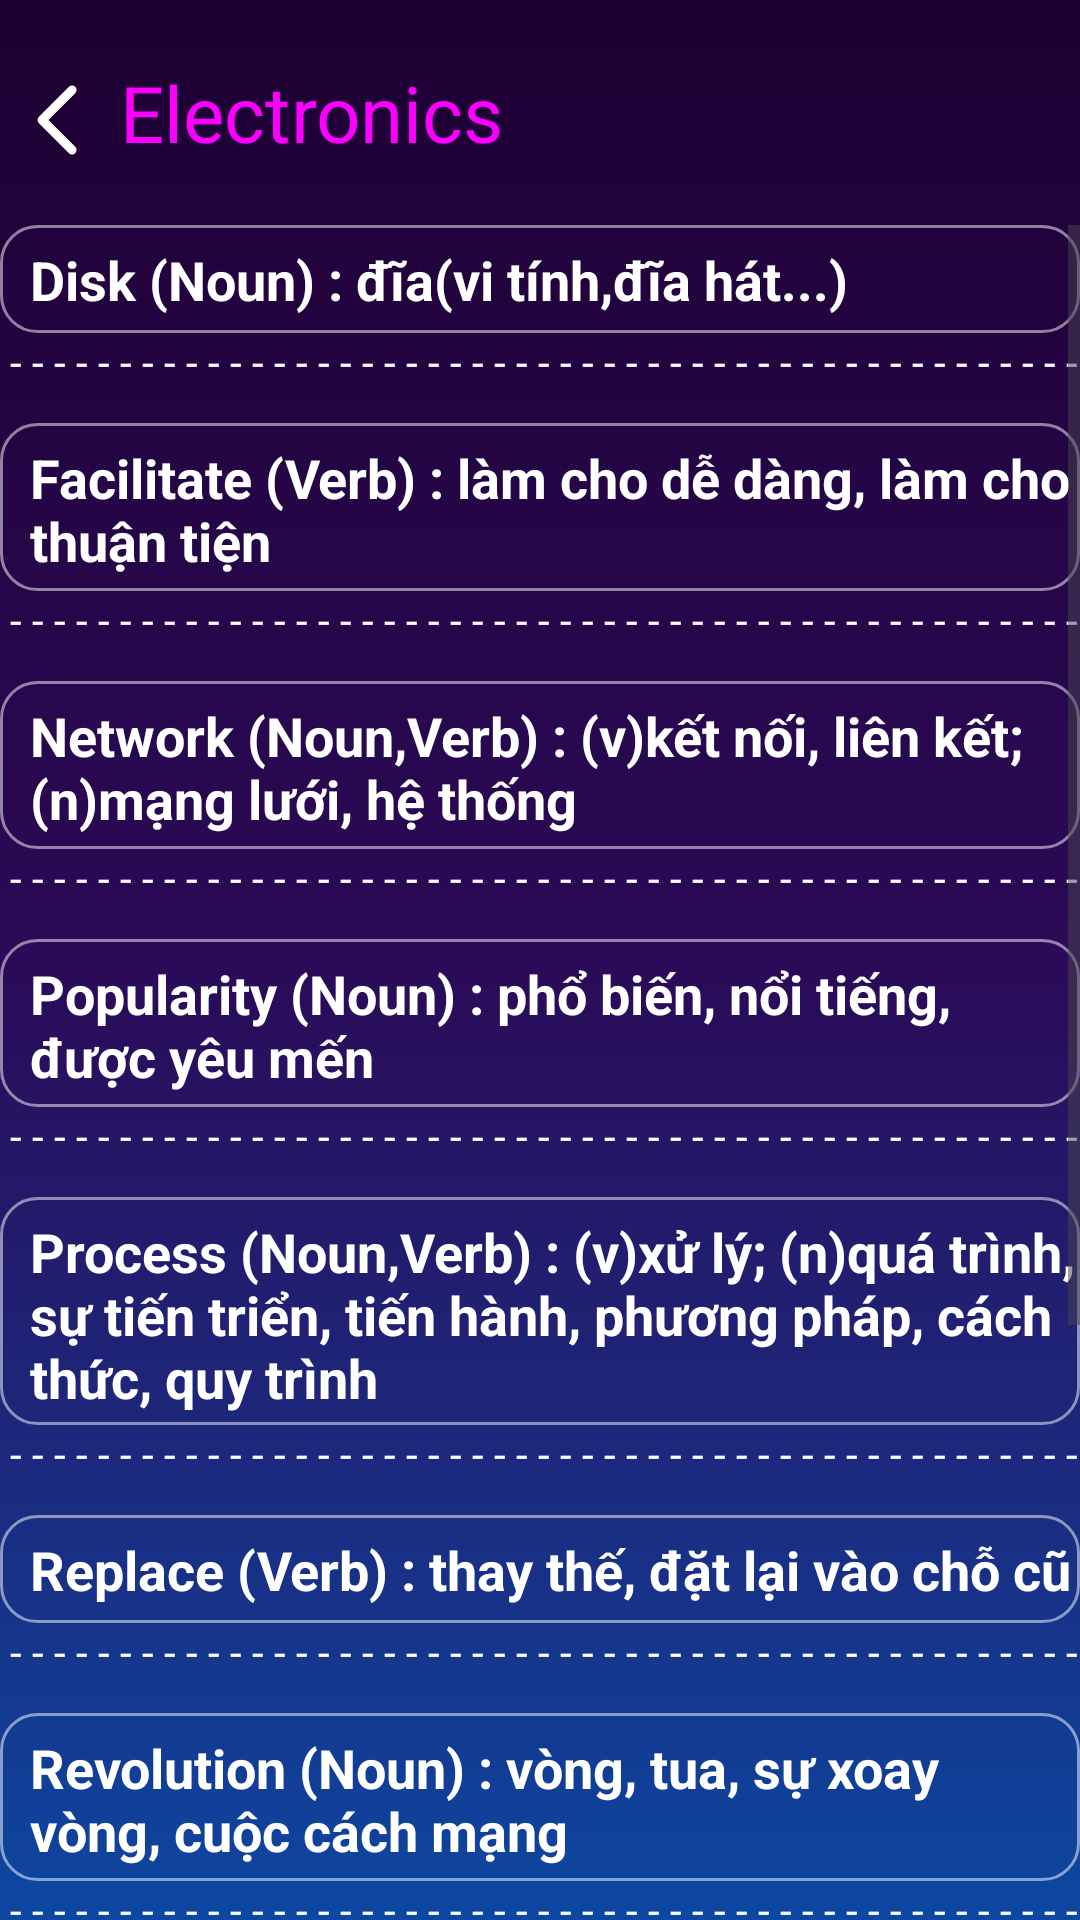

Point at icon controls on the screen. Image size 1080w x 1920h, points as (x=x, y=y).
angle left full: (x=57, y=120)
